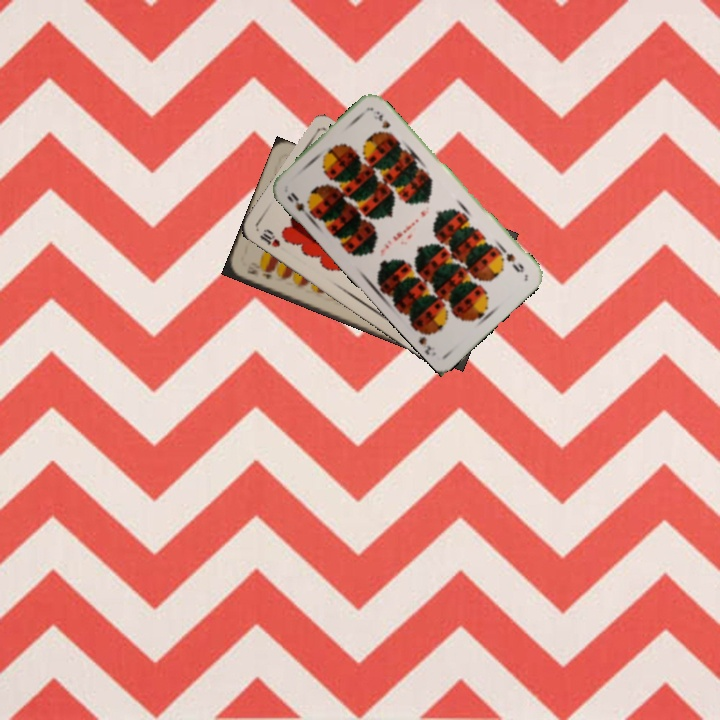E10: (243, 260, 274, 281)
H10: (256, 225, 283, 250)
S9: (283, 188, 315, 221), (495, 244, 527, 275)
